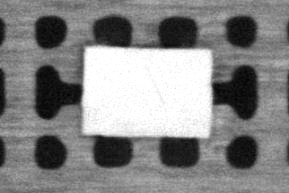DIE_CRACK: (145, 66, 169, 109)
